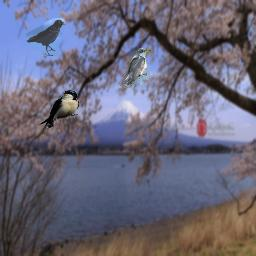Crow: (26, 18, 66, 56)
Cuckoo: (118, 48, 151, 88)
Swallow: (39, 90, 79, 129)
